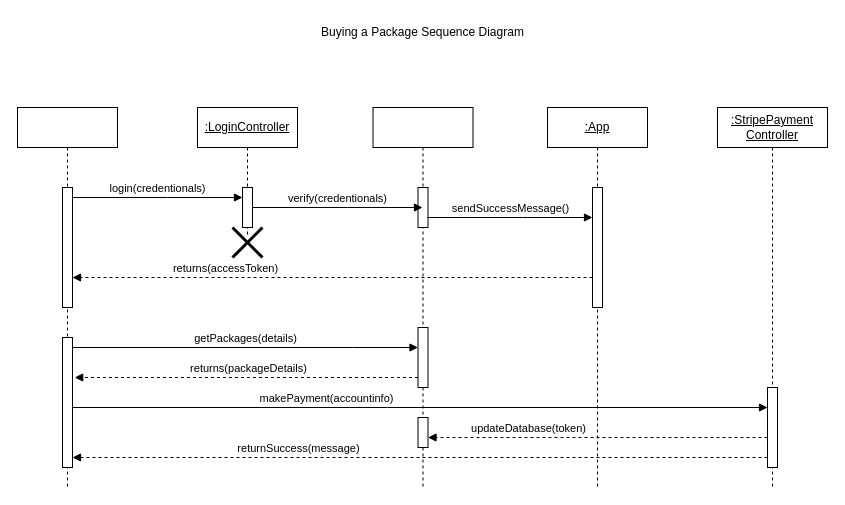
Some shapes in this 845 by 505 pixel diagram are drawn without their labels. Here are the shapes that lost their labels. From the top down, the centre of each, then its label:
point 67,297: :User
point 422,297: :Database
